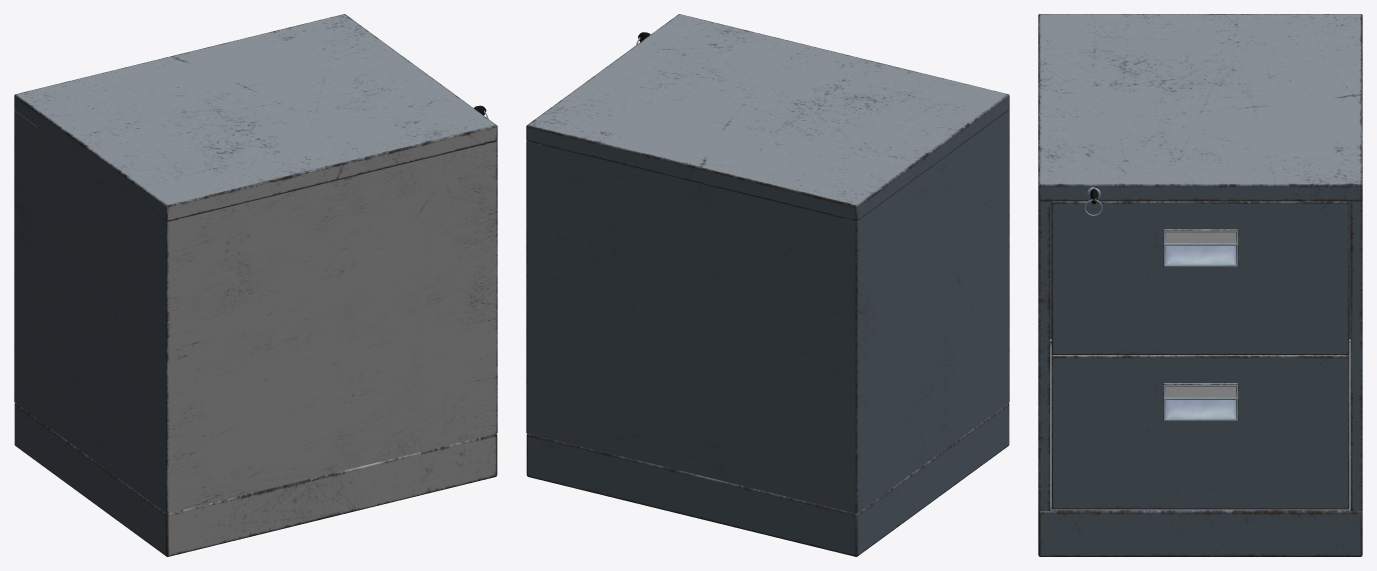
File: Filing Cabinet 2.glb
3 views of the same model, side by side, from view 1: azimuth 30°, elevation 25°; view 2: azimuth 150°, elevation 25°; view 3: azimuth 270°, elevation 25° (orthographic). The views are drawn at different scales.
Parts seen in each view (by area): view 1: Cube_3_2; view 2: Cube_3_2; view 3: Cube_3_2, box_0_2, box_1_2__0.
Boxes of the visible parts, x1,y1,x2,y2 form: Cube_3_2: [14, 14, 497, 556]; Cube_3_2: [526, 14, 1009, 556]; Cube_3_2: [1038, 14, 1362, 556]; box_0_2: [1051, 354, 1349, 509]; box_1_2__0: [1051, 201, 1349, 354].
Bounding box in the file's own units: 104 × 102 × 80.
Materials: 1 (1 with a texture image).
